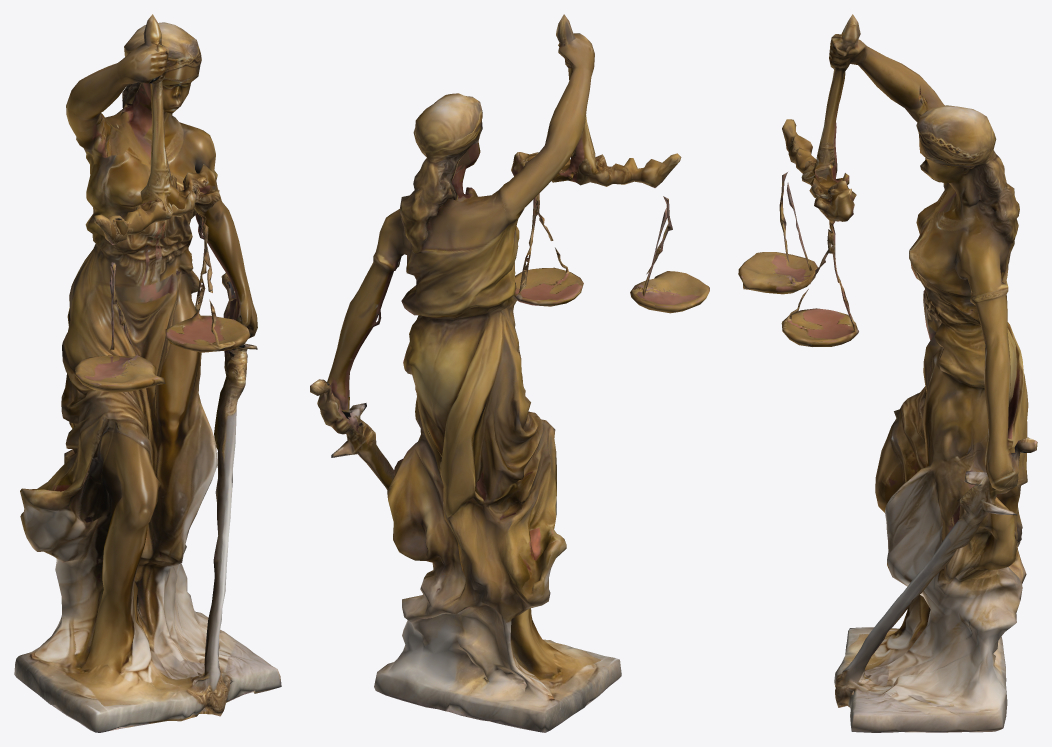
The model's file is Justice_Deity_0501224503_texture.glb.
3 renders of one model, left to right at view 1: azimuth 30°, elevation 25°; view 2: azimuth 150°, elevation 25°; view 3: azimuth 270°, elevation 25°, orthographic. The views are drawn at different scales.
Size of the model in its own units: 0.8606 by 1.99 by 0.8088.
1 material, 1 textured.
